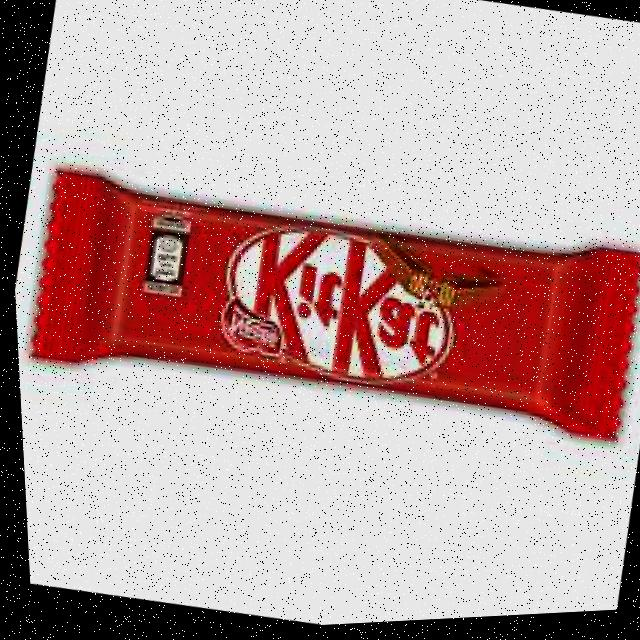kitkat: (22, 140, 640, 469)
